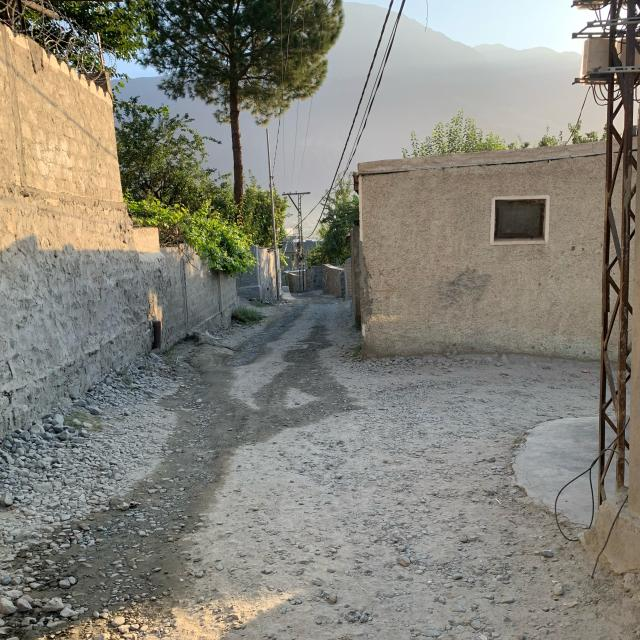Right-Turn: (253, 355, 596, 530)
straight: (226, 284, 332, 439)
